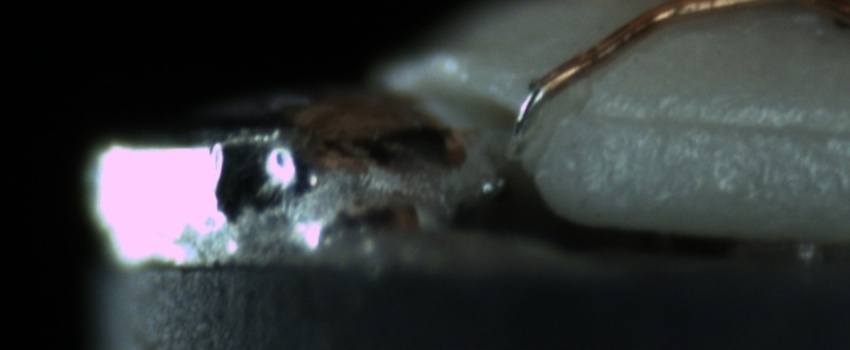DL: (603, 87, 846, 158)
TS: (461, 65, 570, 213)
TTCW: (476, 53, 593, 198)
